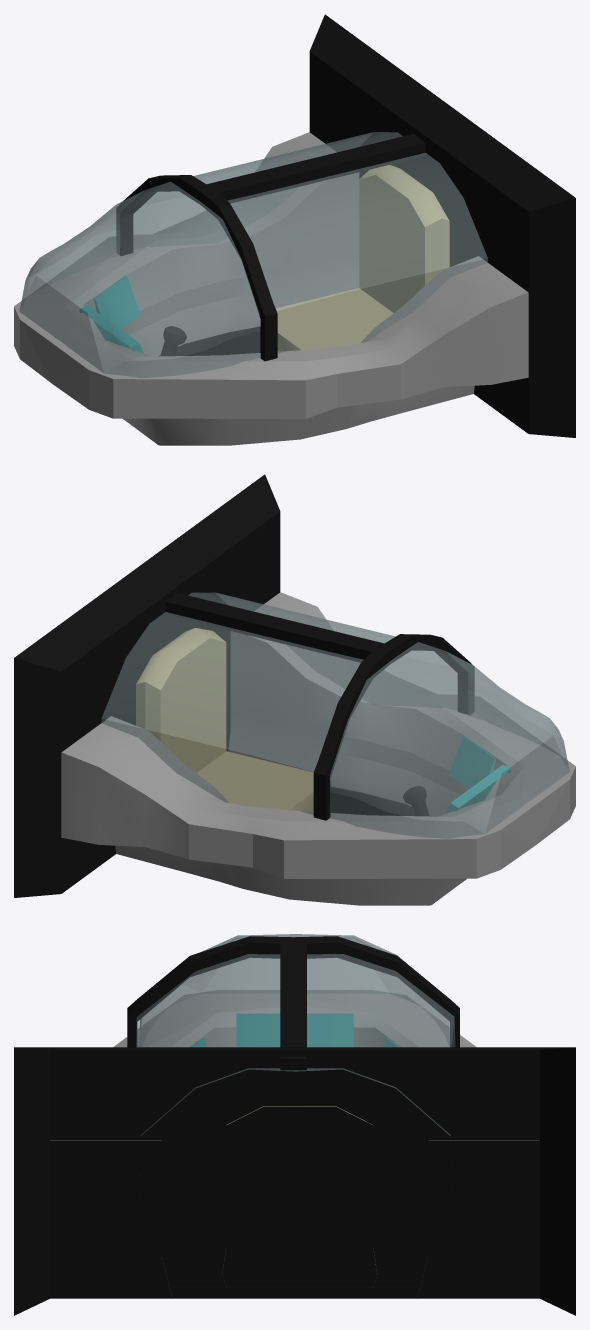
File: cockpit2.FBX
3 renders of one model, top to bottom at view 1: azimuth 30°, elevation 25°; view 2: azimuth 150°, elevation 25°; view 3: azimuth 270°, elevation 25°, orthographic. The views are drawn at different scales.
Parts seen in each view (by area): view 1: CockpitWalls, Glass, CockpitSupports, Seat, Screens, Floor; view 2: CockpitWalls, Glass, CockpitSupports, Seat, Screens, Floor; view 3: CockpitSupports, Glass, CockpitWalls, Screens.
Boxes of the visible parts, x1,y1,x2,y2 form: CockpitWalls: [14, 132, 528, 445]; Glass: [19, 132, 487, 378]; CockpitSupports: [116, 14, 575, 437]; Seat: [276, 165, 449, 351]; Screens: [79, 275, 143, 353]; Floor: [158, 326, 260, 356]; CockpitWalls: [61, 592, 575, 905]; Glass: [101, 592, 569, 838]; CockpitSupports: [14, 474, 474, 897]; Seat: [136, 628, 313, 811]; Screens: [446, 735, 510, 813]; Floor: [330, 786, 431, 816]; CockpitSupports: [14, 936, 575, 1315]; Glass: [136, 934, 455, 1197]; CockpitWalls: [50, 990, 539, 1289]; Screens: [191, 1013, 398, 1047].
Size of the model in its own units: 5.24 by 3.03 by 5.74.
